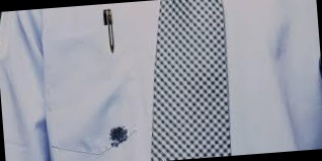ink: (109, 125, 129, 147)
